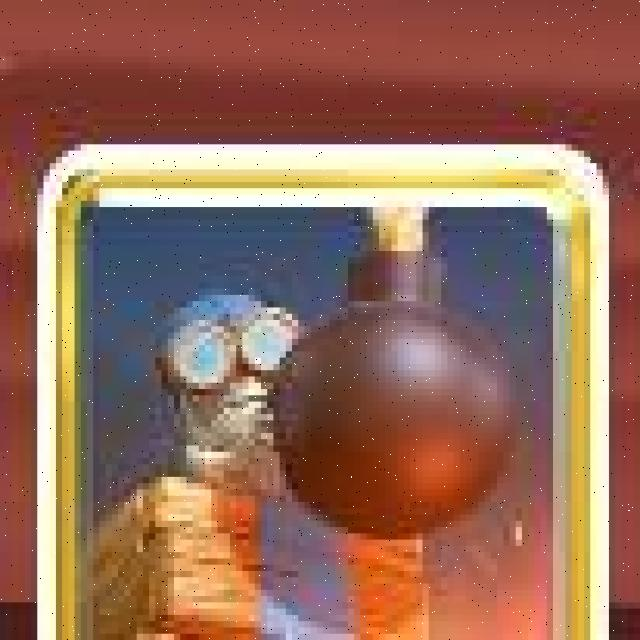Bomb_Tower: (42, 144, 614, 640)
